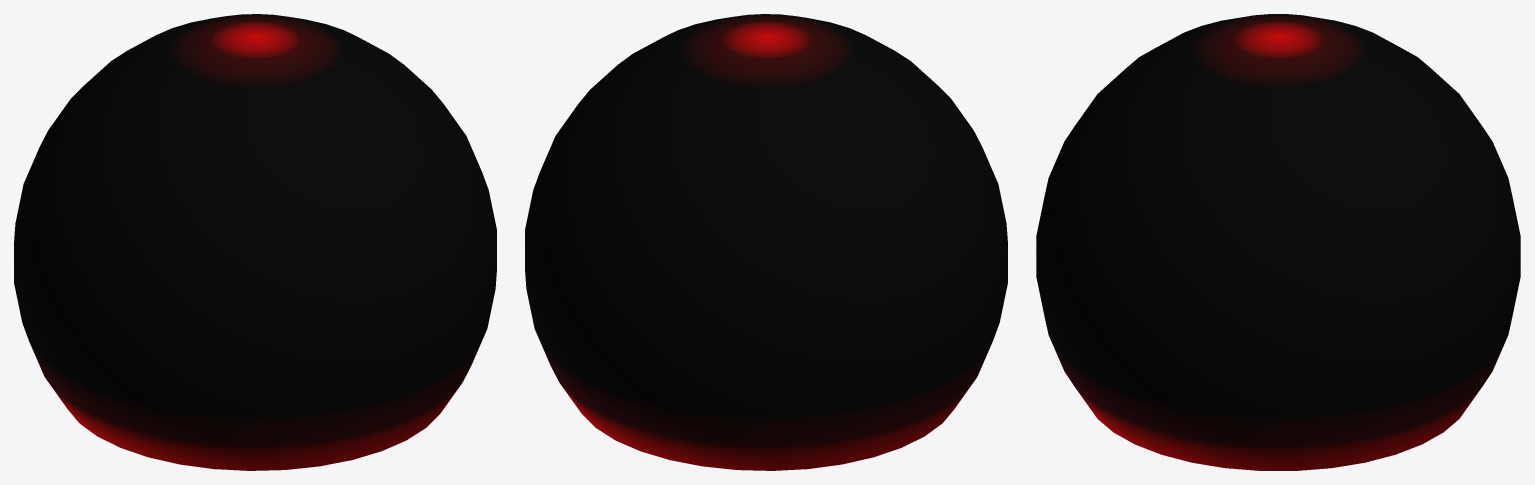
File: SM_Shield_WindSphere.fbx
The picture shows the model from 3 angles, left to right: view 1: azimuth 30°, elevation 25°; view 2: azimuth 150°, elevation 25°; view 3: azimuth 270°, elevation 25°; orthographic projection.
Parts seen in each view (by area): view 1: SM_Shield_WindSphere; view 2: SM_Shield_WindSphere; view 3: SM_Shield_WindSphere.
Part boxes in pixels (box(x1,y1,x2,y2)): SM_Shield_WindSphere: box(14, 14, 496, 470); SM_Shield_WindSphere: box(525, 14, 1007, 470); SM_Shield_WindSphere: box(1036, 14, 1520, 470).
Size of the model in its own units: 73.37 by 73.69 by 59.3.
